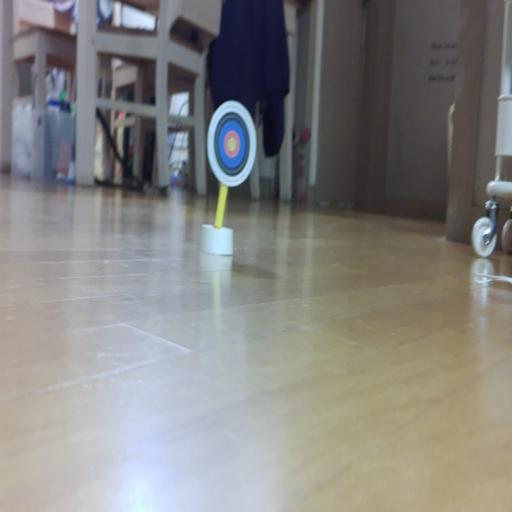target: (208, 101, 256, 186)
